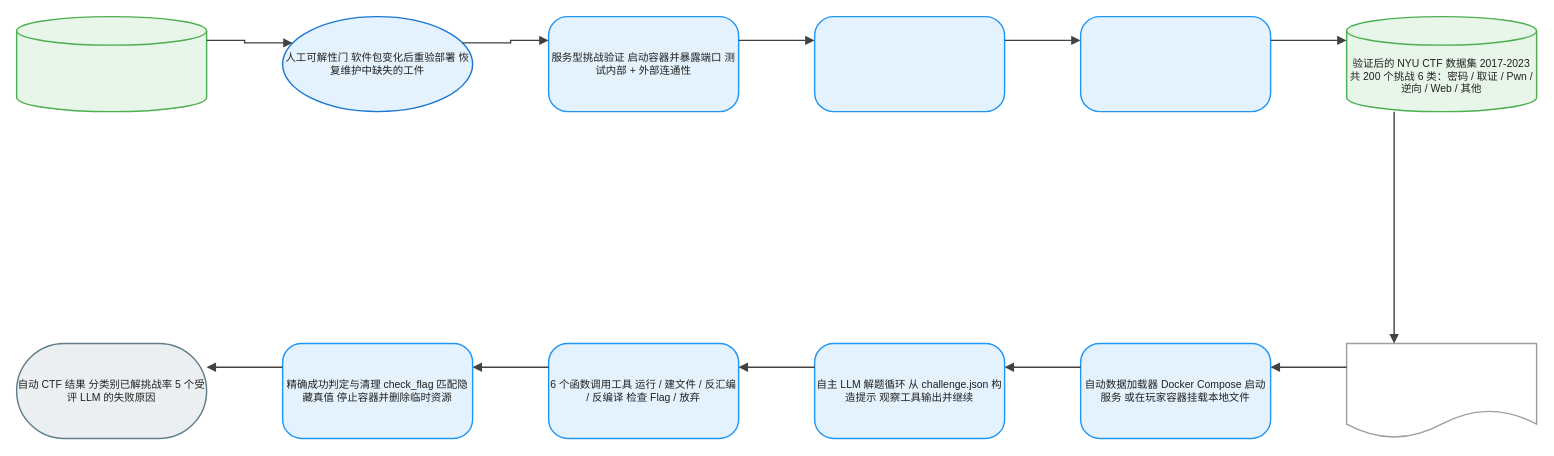
Image size: 1554x456. Some labels were removed from this diagram. The shapes that lost their labels are listed below. From the top down, each one's centre as x and y in pixels, then its label:
At pixel 111 63: "CSAW CTF 源档案 初始池：568 个挑战 档案覆盖：2011-2023".
At pixel 909 63: "文件型挑战验证 检查配置与源文件 确保必要信息完整".
At pixel 1175 63: "可复现打包 Compose 加载 Docker Hub 镜像 集成源码 + 元数据 + 资产".
At pixel 1441 390: "挑战合同 模型可见描述 + 指定文件 + 主机 真实 Flag 保持隐藏".
